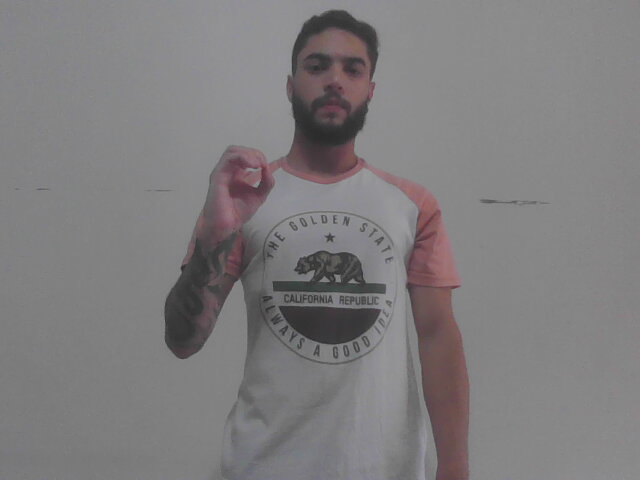o: (201, 141, 281, 244)
